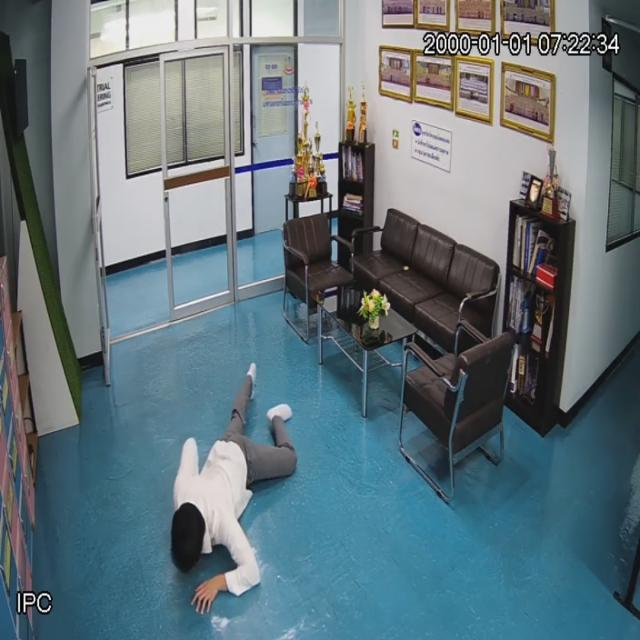fall: (165, 357, 300, 617)
